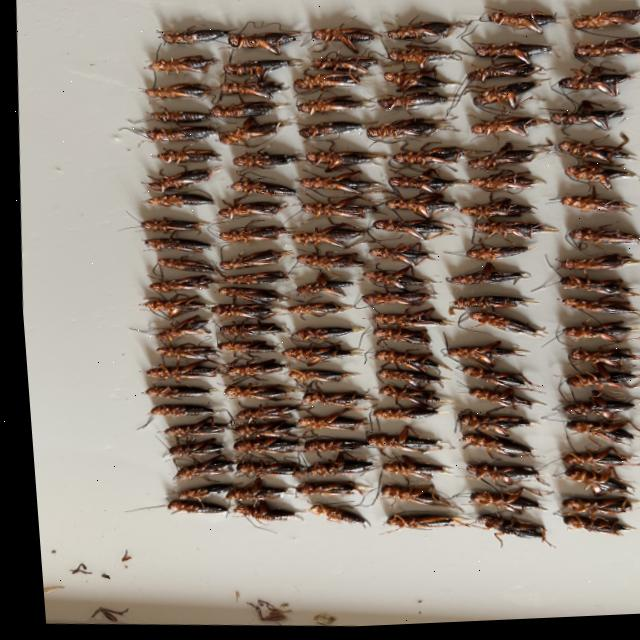no: (569, 395, 629, 423), (574, 368, 634, 393), (386, 25, 469, 42), (404, 171, 460, 196), (314, 174, 377, 196), (385, 222, 451, 243), (398, 71, 458, 93), (391, 122, 456, 142), (300, 98, 368, 117), (487, 520, 537, 545), (321, 198, 373, 222), (466, 345, 520, 368), (585, 425, 636, 449), (485, 225, 553, 243), (232, 118, 282, 142), (575, 452, 634, 472), (243, 33, 299, 54), (404, 196, 452, 220), (586, 350, 638, 372), (391, 95, 454, 113), (385, 270, 432, 294), (403, 48, 452, 71), (395, 488, 444, 511), (477, 439, 528, 461), (384, 246, 432, 269), (476, 419, 531, 439), (302, 254, 359, 273), (486, 86, 535, 108), (504, 17, 555, 38), (386, 311, 445, 329), (573, 520, 626, 540), (316, 506, 360, 530), (316, 456, 366, 477), (479, 469, 534, 488), (230, 251, 288, 269), (306, 275, 349, 299), (497, 46, 551, 65), (485, 122, 542, 140), (581, 478, 627, 500), (386, 354, 434, 375), (322, 154, 372, 174), (585, 15, 640, 33), (575, 173, 633, 190), (322, 58, 376, 76), (579, 301, 633, 319), (488, 392, 534, 413), (475, 373, 525, 392), (488, 320, 531, 342), (583, 79, 630, 99), (242, 61, 294, 79), (233, 227, 287, 244), (223, 203, 284, 218), (313, 74, 361, 93), (484, 66, 541, 82), (243, 502, 286, 523), (333, 31, 374, 53), (485, 153, 544, 168), (305, 483, 363, 498), (575, 203, 633, 218), (162, 57, 213, 74), (581, 150, 632, 167), (584, 284, 632, 302), (386, 459, 425, 481), (163, 170, 208, 189), (373, 294, 430, 309), (161, 257, 211, 274), (164, 361, 211, 379), (154, 276, 210, 291), (153, 217, 205, 233), (228, 360, 280, 376), (151, 194, 210, 208), (224, 289, 279, 304), (586, 325, 627, 345), (466, 299, 533, 311), (243, 182, 293, 198), (231, 323, 281, 339), (582, 502, 632, 518), (235, 385, 281, 402), (305, 347, 356, 362), (394, 517, 445, 532), (238, 484, 280, 502), (315, 393, 362, 409), (314, 124, 361, 140), (478, 204, 528, 219), (418, 150, 462, 167), (162, 127, 215, 141), (243, 422, 289, 438), (388, 438, 434, 454), (594, 46, 640, 62), (159, 238, 208, 253), (173, 149, 216, 166), (226, 305, 271, 321), (387, 373, 435, 388), (467, 274, 522, 287), (244, 406, 291, 421), (385, 331, 424, 349), (568, 114, 622, 127), (242, 83, 283, 100), (587, 260, 640, 273), (247, 439, 292, 454), (593, 234, 638, 249), (492, 177, 537, 192), (398, 392, 440, 408), (254, 153, 295, 169), (251, 461, 292, 477), (174, 501, 220, 515), (163, 111, 209, 125), (166, 345, 211, 359), (157, 297, 199, 312), (316, 417, 358, 432), (181, 30, 229, 43), (385, 409, 432, 422), (316, 440, 362, 453), (182, 462, 226, 475), (237, 273, 284, 285), (305, 372, 352, 384), (167, 318, 202, 334), (183, 485, 225, 498), (178, 441, 217, 455), (225, 342, 270, 354), (305, 329, 350, 341), (164, 386, 205, 399), (295, 304, 333, 318), (177, 423, 220, 435), (164, 405, 206, 417), (484, 250, 526, 262), (404, 468, 434, 481), (383, 101, 390, 112), (386, 518, 390, 528)
